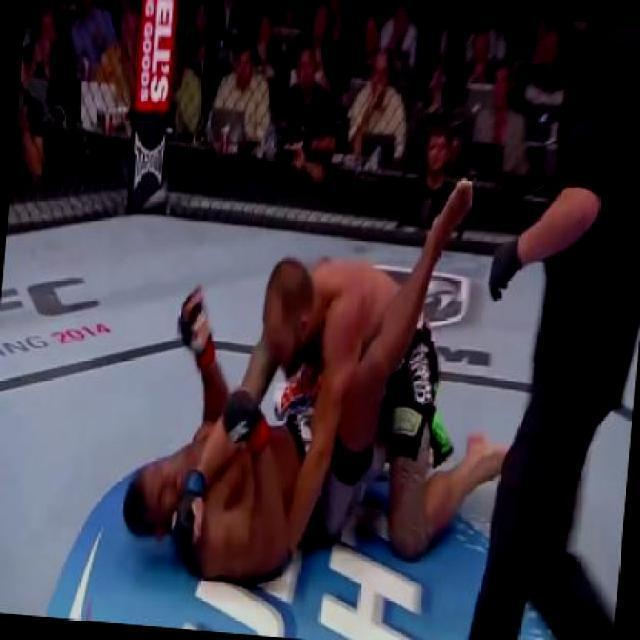fight: (117, 235, 465, 600)
